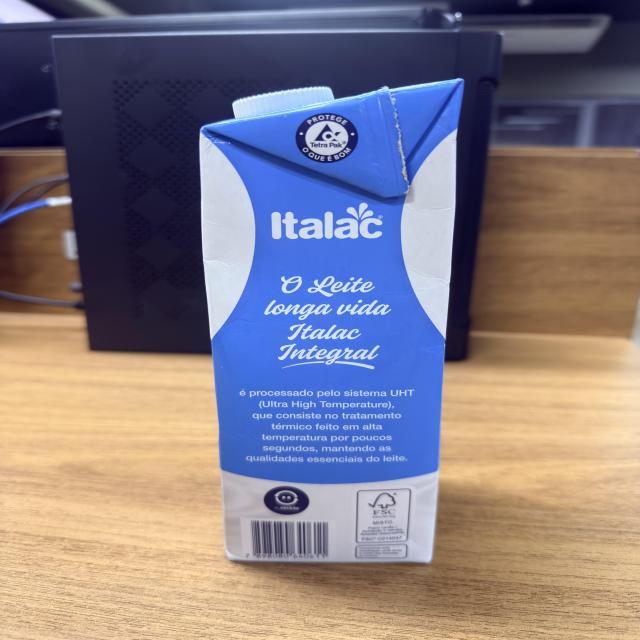Caixa de Leite: (197, 75, 466, 563)
